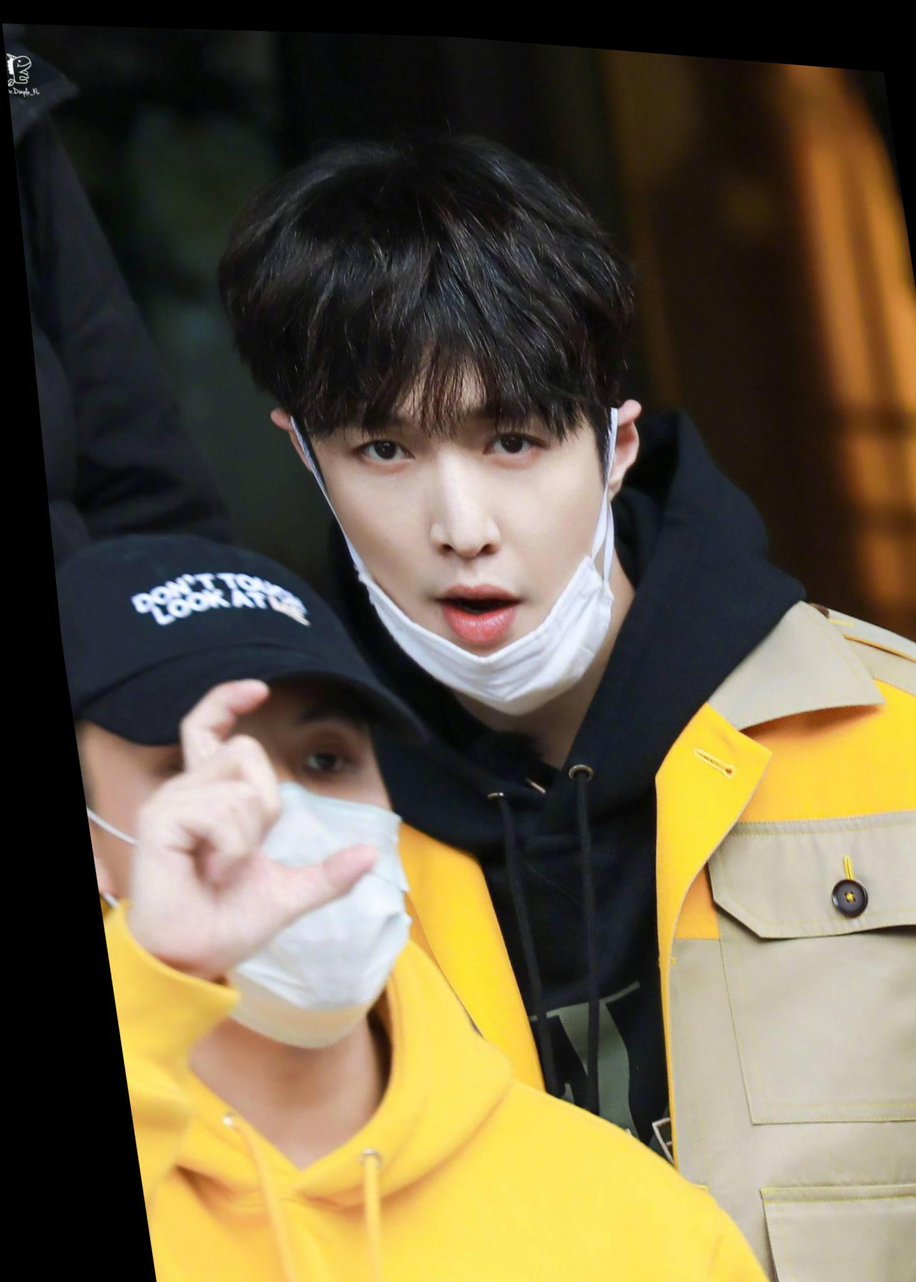OK: (64, 657, 408, 1057)
WRONG: (287, 339, 621, 707)
